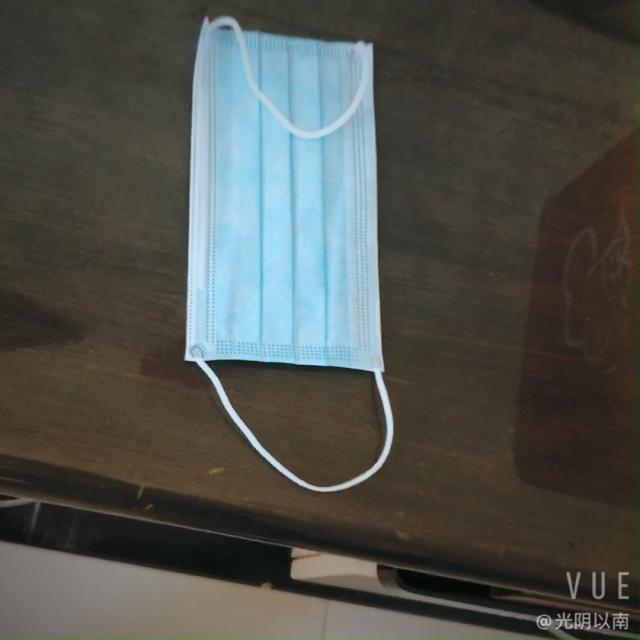face mask: (165, 27, 378, 372)
